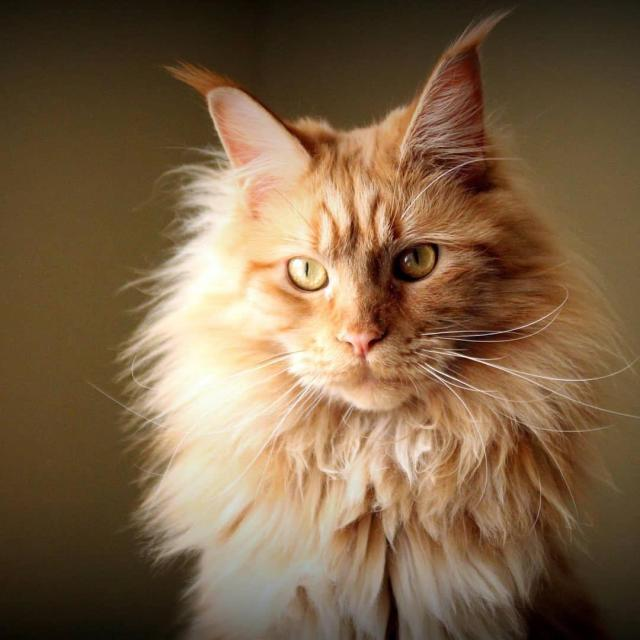cat: (107, 46, 636, 640)
